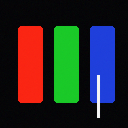4 line_v: (97, 75, 99, 117)
